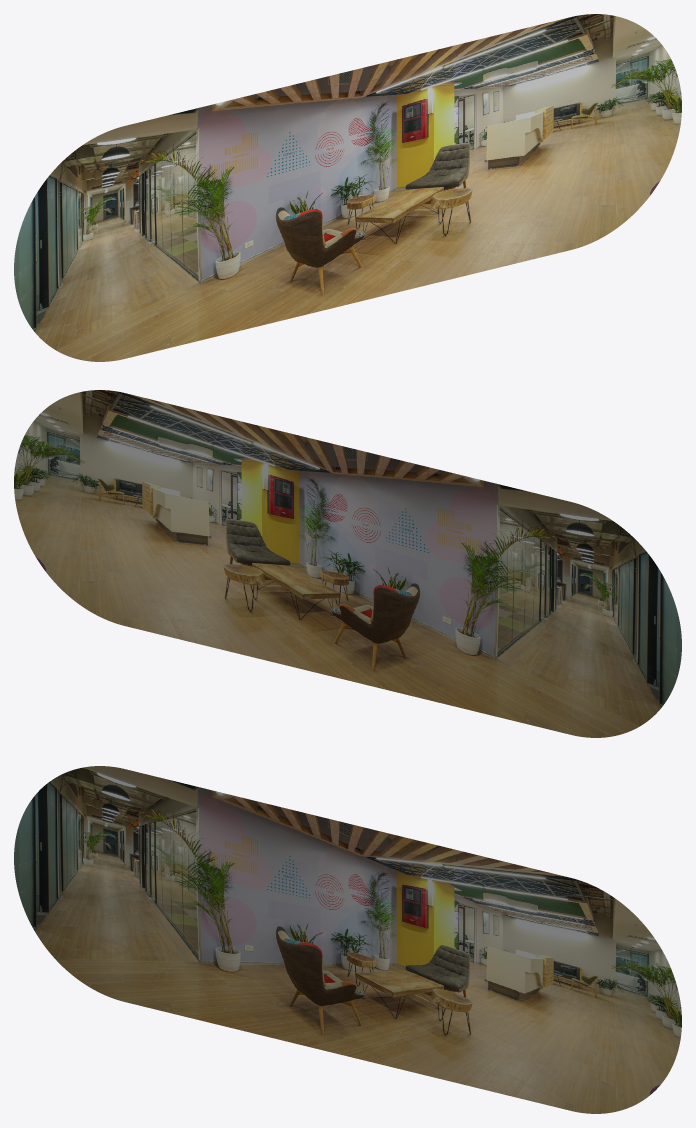
Rendered from curved-plane-1.glb.
3 renders of one model, top to bottom at view 1: azimuth 30°, elevation 25°; view 2: azimuth 150°, elevation 25°; view 3: azimuth 330°, elevation 25°, orthographic.
Visible parts, largest first — view 1: Plane; view 2: Plane; view 3: Plane.
Part boxes in pixels (left/top/right/bottom): Plane: left=14, top=14, right=681, bottom=361; Plane: left=14, top=390, right=681, bottom=737; Plane: left=14, top=766, right=681, bottom=1113.
Size of the model in its own units: 4 by 1.33 by 2.96e-16.
1 material, 1 textured.
